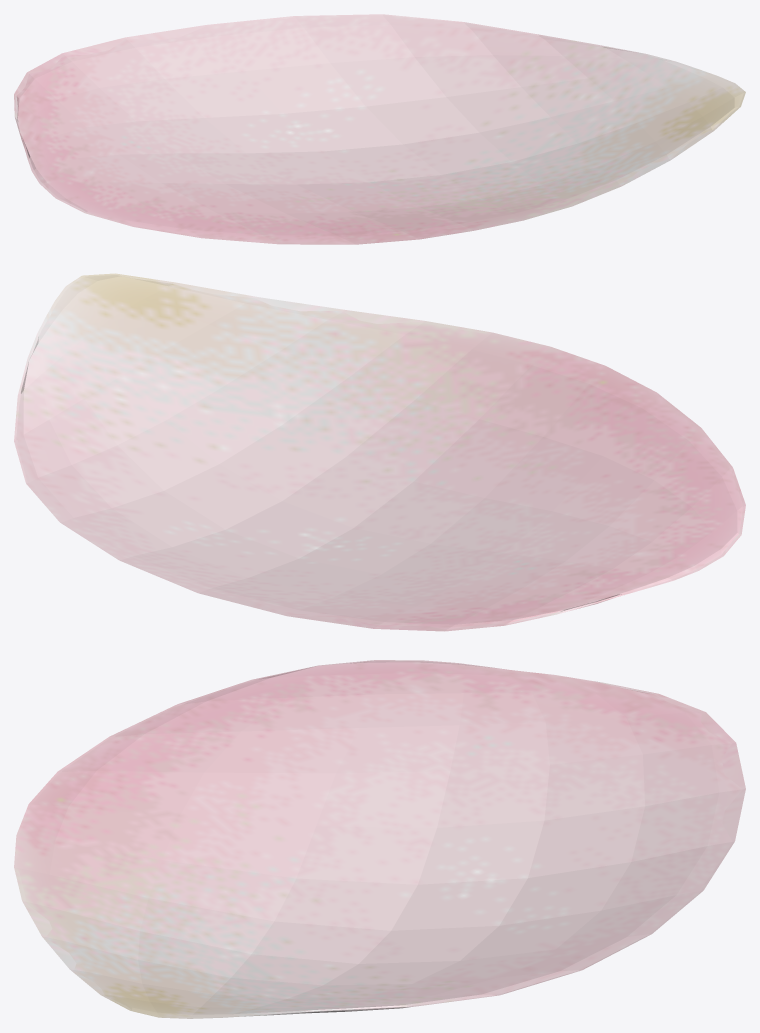
Rendered from pedal1.glb.
The picture shows the model from 3 angles, top to bottom: view 1: azimuth 30°, elevation 25°; view 2: azimuth 150°, elevation 25°; view 3: azimuth 270°, elevation 25°; orthographic projection. The views are drawn at different scales.
Visible parts, largest first — view 1: pedal2.004; view 2: pedal2.004; view 3: pedal2.004.
Part boxes in pixels (bbox=[...]): pedal2.004: bbox=[14, 14, 745, 244]; pedal2.004: bbox=[14, 273, 745, 631]; pedal2.004: bbox=[14, 660, 745, 1018].
Bounding box in the file's own units: 4.08 × 0.371 × 3.29.
Materials: 1 (1 with a texture image).
